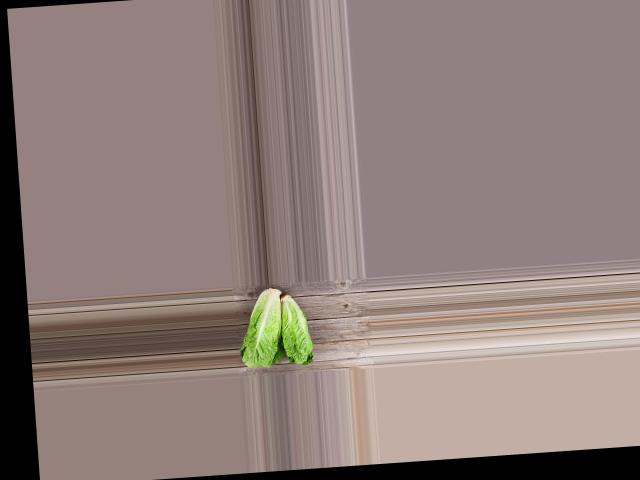lettuce: (234, 283, 286, 372)
